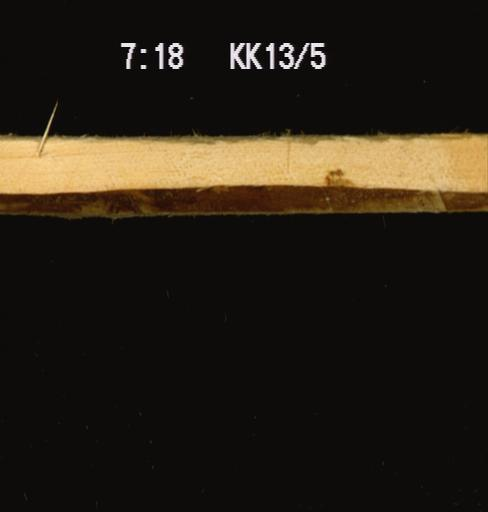wave: (0, 175, 487, 219)
